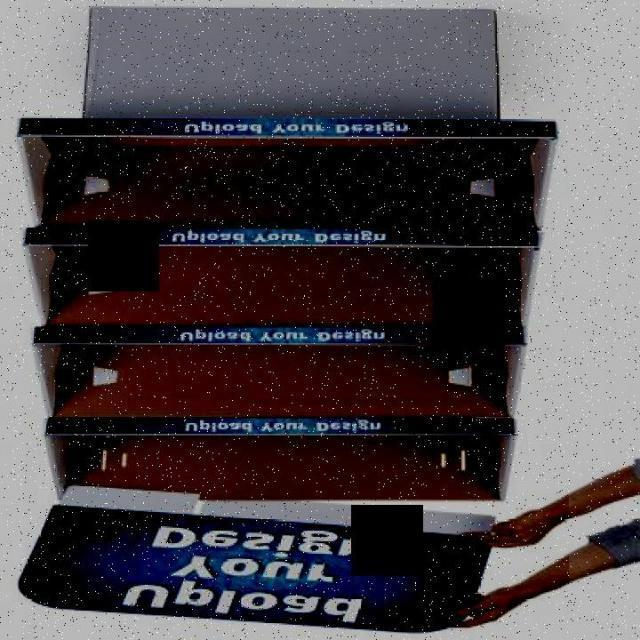box: (5, 0, 569, 639)
